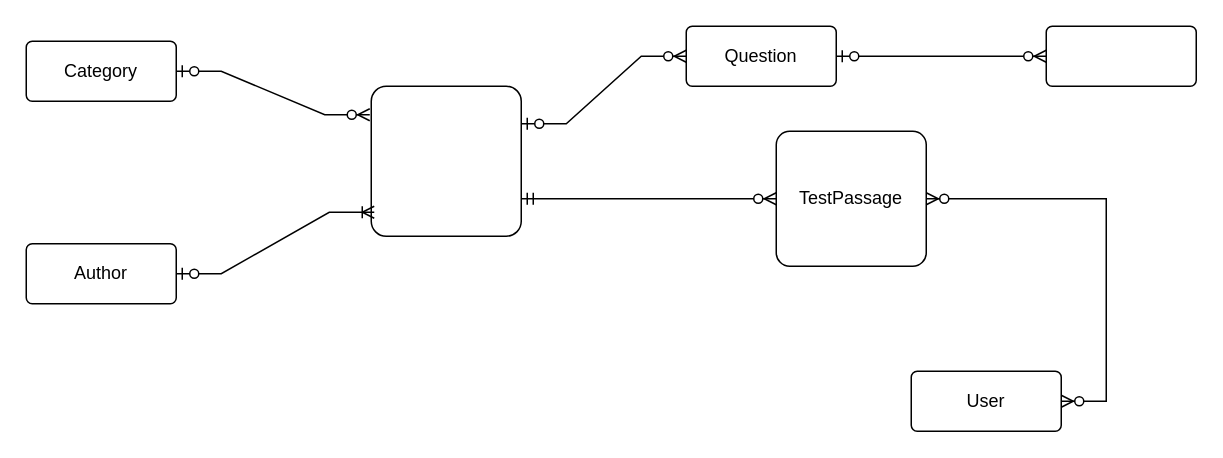
Image size: 1223x458. Some labels were removed from this diagram. The shapes that lost their labels are listed below. From the top down, each one's box as (x1, y1, x2, y2) in pixels, then its label:
(1045, 25, 1196, 86): Answer
(370, 85, 521, 236): Test
